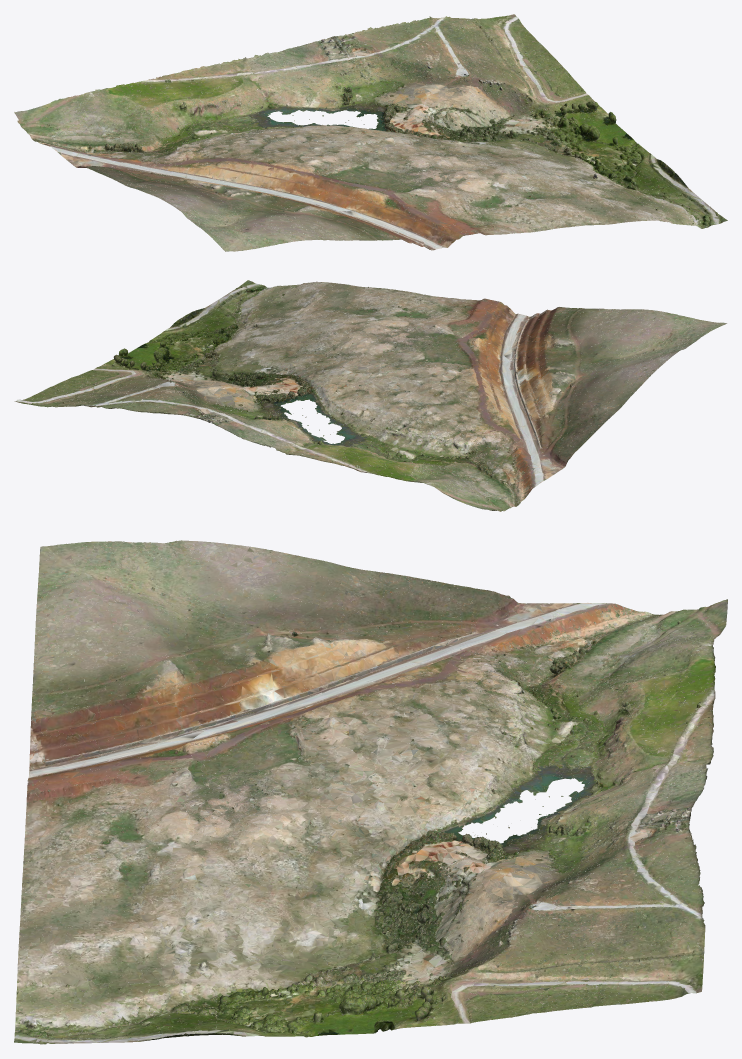
3 views of the same model, one above another, from view 1: azimuth 30°, elevation 25°; view 2: azimuth 150°, elevation 25°; view 3: azimuth 270°, elevation 25° (orthographic). The views are drawn at different scales.
Visible parts, largest first — view 1: otlukbeli; view 2: otlukbeli; view 3: otlukbeli.
Part boxes in pixels (left/top/right/bottom): otlukbeli: left=14, top=14, right=727, bottom=251; otlukbeli: left=14, top=280, right=726, bottom=511; otlukbeli: left=14, top=540, right=727, bottom=1044.
Size of the model in its own units: 905 by 156 by 724.
Materials: 18 (18 with a texture image).
